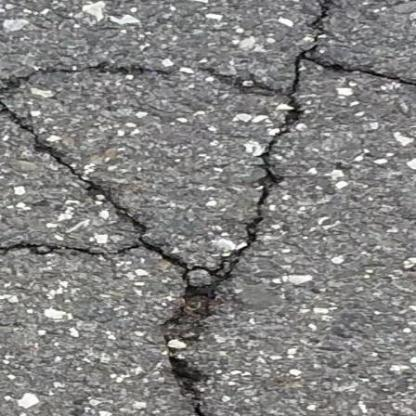Cracks: (196, 2, 416, 268), (2, 51, 200, 218), (154, 263, 250, 416), (0, 216, 198, 282)
